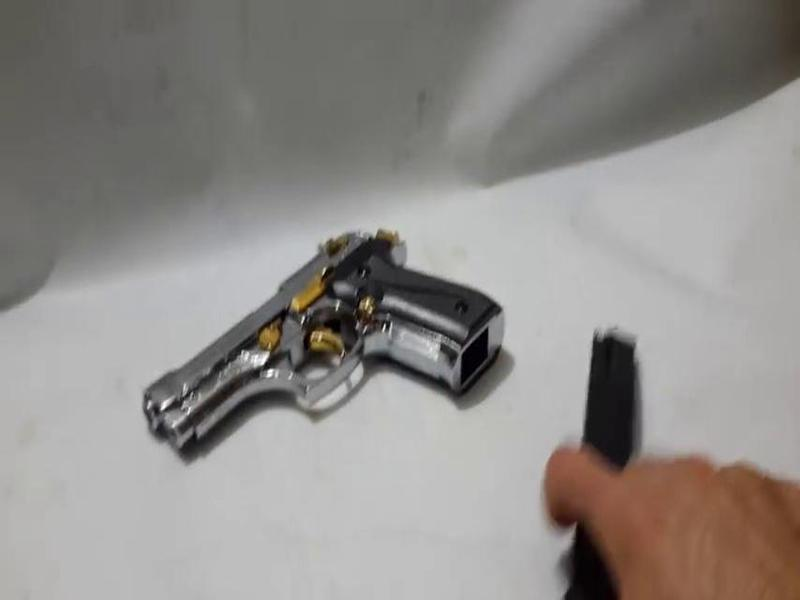Pistola: (136, 223, 517, 453)
